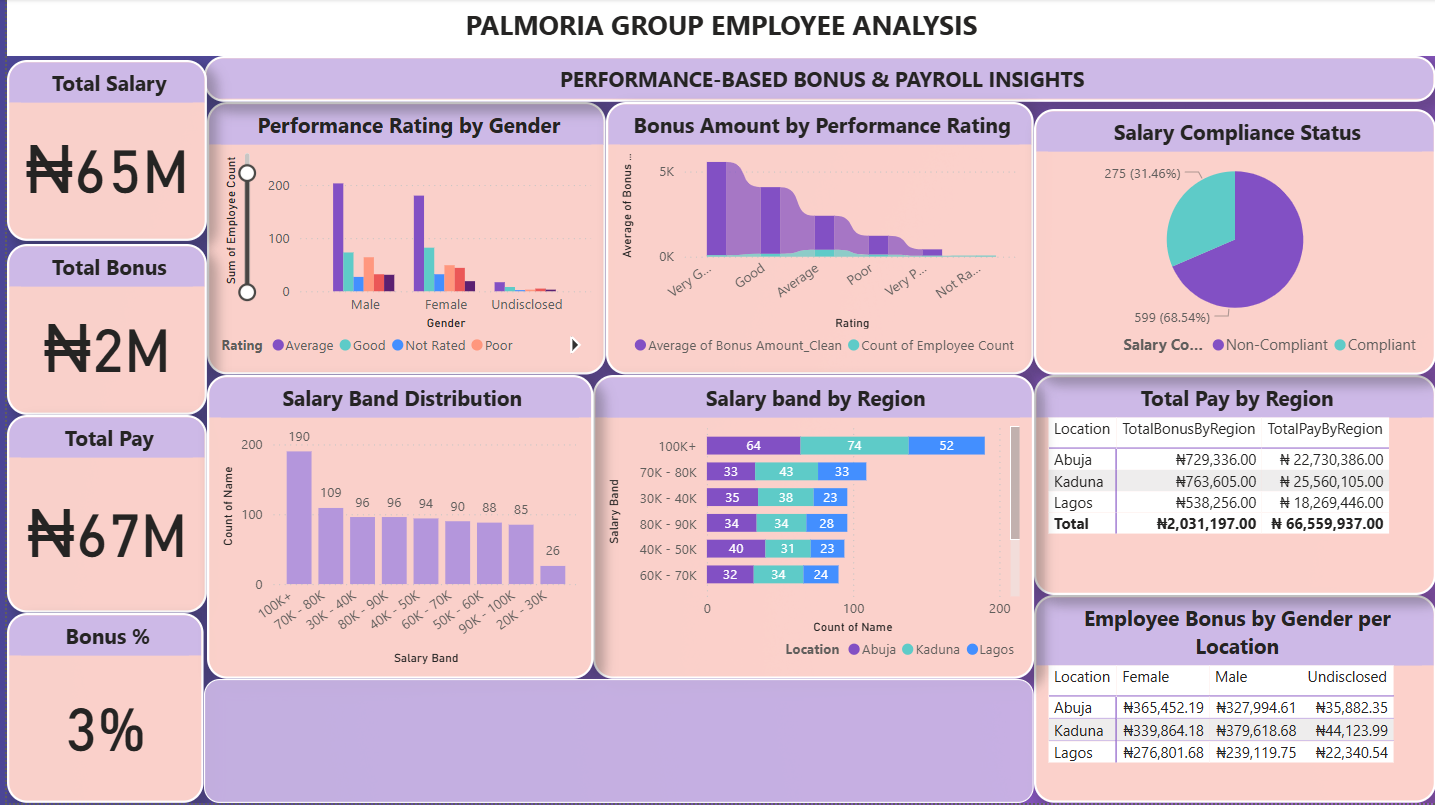

What the dashboard file says about the page in this screenshot:
{"tool":"powerbi","page":{"name":"Page 2","canvas":[1280,720],"ordinal":1},"visuals":[{"type":"pivotTable","title":"Employee Bonus by Gender per Location","fields":{"Rows":["Bonus Rating.Location"],"Values":["Sum(Bonus Rating.Bonus Amount)"],"Columns":["Bonus Rating.Gender"]},"box":[919.7,533.7,360,186.3],"z":0},{"type":"clusteredColumnChart","title":"Performance Rating by Gender","fields":{"Y":["Sum(Bonus Rating.Sheet1.Employee Count)"],"Category":["Bonus Rating.Gender"],"Series":["Bonus Rating.Rating"]},"box":[179.1,92.2,357.3,244.5],"z":1000},{"type":"textbox","title":"PERFORMANCE-BASED BONUS & PAYROLL INSIGHTS","box":[176.4,51,1103.3,41.2],"z":2000},{"type":"card","title":"Total Salary","fields":{"Values":["Sum(Palmoria HR Analytics.Salary)"]},"box":[0,54.6,179.1,162.1],"z":3000},{"type":"card","title":"Total Bonus","fields":{"Values":["Sum(Palmoria HR Analytics.Bonus Amount_Clean)"]},"box":[0,219.4,179.1,153.1],"z":4000},{"type":"card","title":"Total Pay","fields":{"Values":["Sum(Palmoria HR Analytics.Total Pay_Clean)"]},"box":[0,372.5,179.1,177.3],"z":5000},{"type":"ribbonChart","title":"Bonus Amount by Performance Rating","fields":{"Category":["Palmoria HR Analytics.Rating"],"Y":["Avg(Palmoria HR Analytics.Bonus Amount_Clean)","CountNonNull(Palmoria HR Analytics.Employee Count)"]},"box":[536.4,92.2,383.3,244.5],"z":6000},{"type":"textbox","box":[0,0,1279.7,51],"z":7000},{"type":"card","title":"Bonus %","fields":{"Values":["Palmoria HR Analytics.BonusToPayPercent"]},"box":[0,549.9,176.4,170.1],"z":8000},{"type":"pivotTable","title":"Total Pay by Region","fields":{"Rows":["Palmoria HR Analytics.Location"],"Values":["Palmoria HR Analytics.TotalBonusByRegion","Palmoria HR Analytics.TotalPayByRegion"]},"box":[919.7,336.7,360,197],"z":9000},{"type":"barChart","title":"Salary band by Region","fields":{"Category":["Palmoria HR Analytics.Salary Band"],"Y":["CountNonNull(Palmoria HR Analytics.Name)"],"Series":["Palmoria HR Analytics.Location"]},"box":[524.8,336.7,394.9,272.2],"z":9001},{"type":"clusteredColumnChart","title":"Salary Band Distribution","fields":{"Category":["Bonus Rating.Salary Band"],"Y":["CountNonNull(Bonus Rating.Name)"]},"box":[179.1,336.7,345.7,272.2],"z":9002},{"type":"pieChart","title":" Salary Compliance Status","fields":{"Category":["Bonus Rating.Salary Compliance Status"],"Y":["CountNonNull(Bonus Rating.Name)"]},"box":[919.7,98.5,360,238.2],"z":9003},{"type":"textbox","box":[176.4,609,743.3,111],"z":9004}]}

Visuals, with their boxes in screenshot pixels (x1, y1, x2, y2), scaled from the page's 1280x720 canvas onto the 1435x805 screenshot:
"Employee Bonus by Gender per Location" pivotTable: select_region(1031, 597, 1434, 804)
"Performance Rating by Gender" clusteredColumnChart: select_region(201, 103, 601, 376)
"PERFORMANCE-BASED BONUS & PAYROLL INSIGHTS" textbox: select_region(198, 57, 1434, 103)
"Total Salary" card: select_region(0, 61, 201, 242)
"Total Bonus" card: select_region(0, 245, 201, 416)
"Total Pay" card: select_region(0, 416, 201, 615)
"Bonus Amount by Performance Rating" ribbonChart: select_region(601, 103, 1031, 376)
textbox: select_region(0, 0, 1434, 57)
"Bonus %" card: select_region(0, 615, 198, 804)
"Total Pay by Region" pivotTable: select_region(1031, 376, 1434, 597)
"Salary band by Region" barChart: select_region(588, 376, 1031, 681)
"Salary Band Distribution" clusteredColumnChart: select_region(201, 376, 588, 681)
" Salary Compliance Status" pieChart: select_region(1031, 110, 1434, 376)
textbox: select_region(198, 681, 1031, 804)
